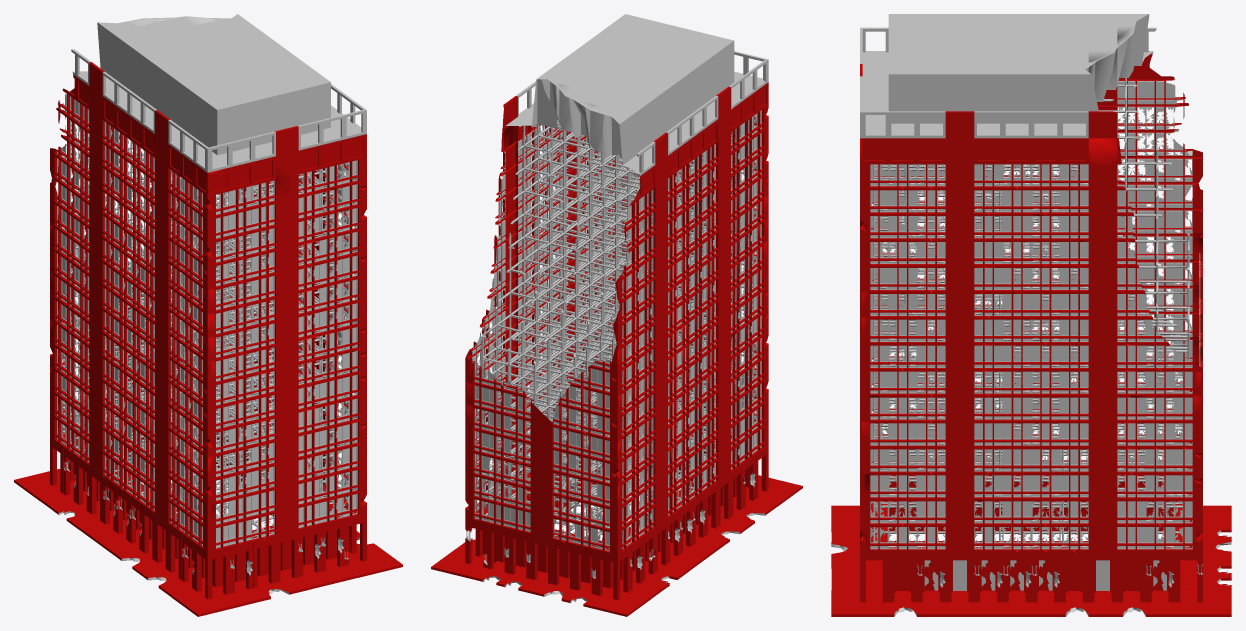
File: post_apocalyptic_buildings_1.fbx
3 renders of one model, left to right at view 1: azimuth 30°, elevation 25°; view 2: azimuth 150°, elevation 25°; view 3: azimuth 270°, elevation 25°, orthographic. The views are drawn at different scales.
Visible parts, largest first — view 1: post_apocalyptic_buildings_1; view 2: post_apocalyptic_buildings_1; view 3: post_apocalyptic_buildings_1.
Boxes of the visible parts, x1,y1,x2,y2 form: post_apocalyptic_buildings_1: (14,14,402,616); post_apocalyptic_buildings_1: (431,14,802,616); post_apocalyptic_buildings_1: (831,14,1231,616).
Size of the model in its own units: 90 by 200 by 140.
